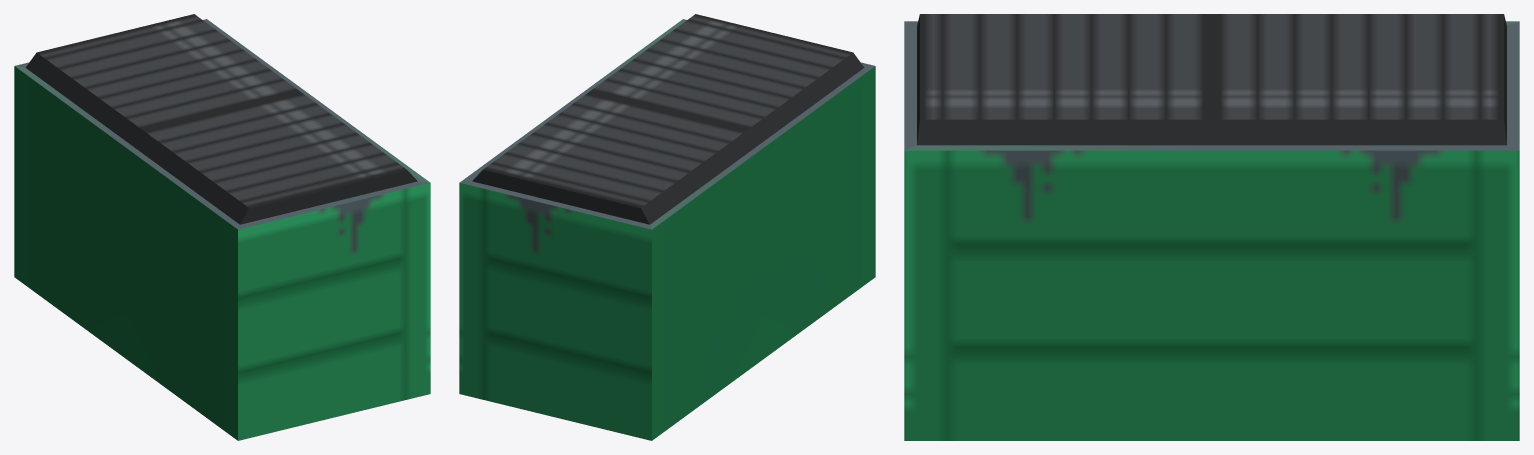
The model's file is Garbage_Dumpster.obj.
3 views of the same model, side by side, from view 1: azimuth 30°, elevation 25°; view 2: azimuth 150°, elevation 25°; view 3: azimuth 270°, elevation 25° (orthographic). The views are drawn at different scales.
Visible parts, largest first — view 1: Garbage_Dumpster.001; view 2: Garbage_Dumpster.001; view 3: Garbage_Dumpster.001.
Part boxes in pixels (x1,y1,x2,y2): Garbage_Dumpster.001: (14, 14, 430, 440); Garbage_Dumpster.001: (459, 14, 875, 440); Garbage_Dumpster.001: (904, 14, 1519, 440).
Size of the model in its own units: 1.28 by 1.43 by 2.58.
